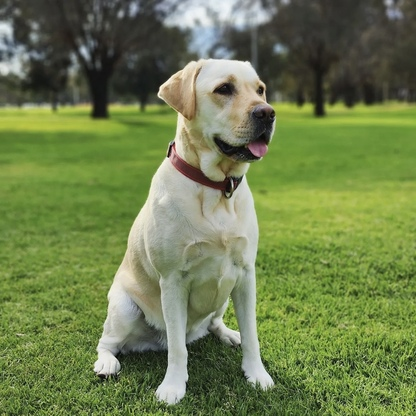labrado: (87, 54, 283, 410)
